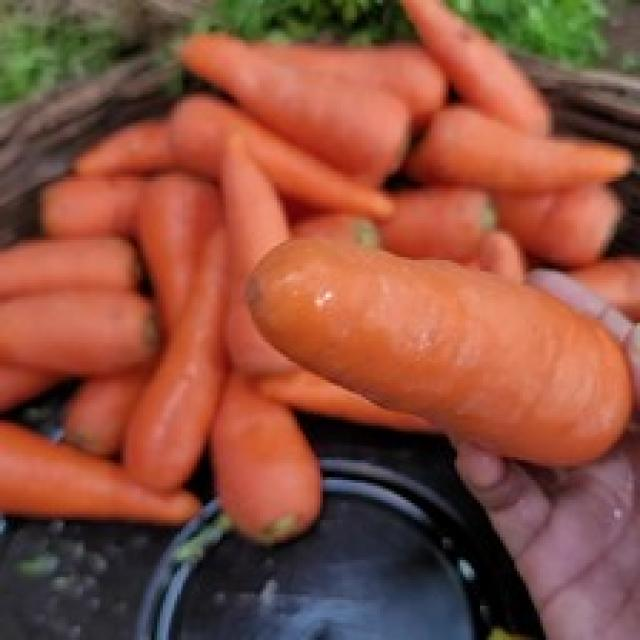Fresh_Carrot: (251, 241, 637, 465), (179, 36, 424, 169), (123, 233, 235, 488), (163, 95, 388, 217), (0, 422, 206, 525), (410, 95, 640, 183), (0, 275, 172, 381), (130, 170, 227, 341)
